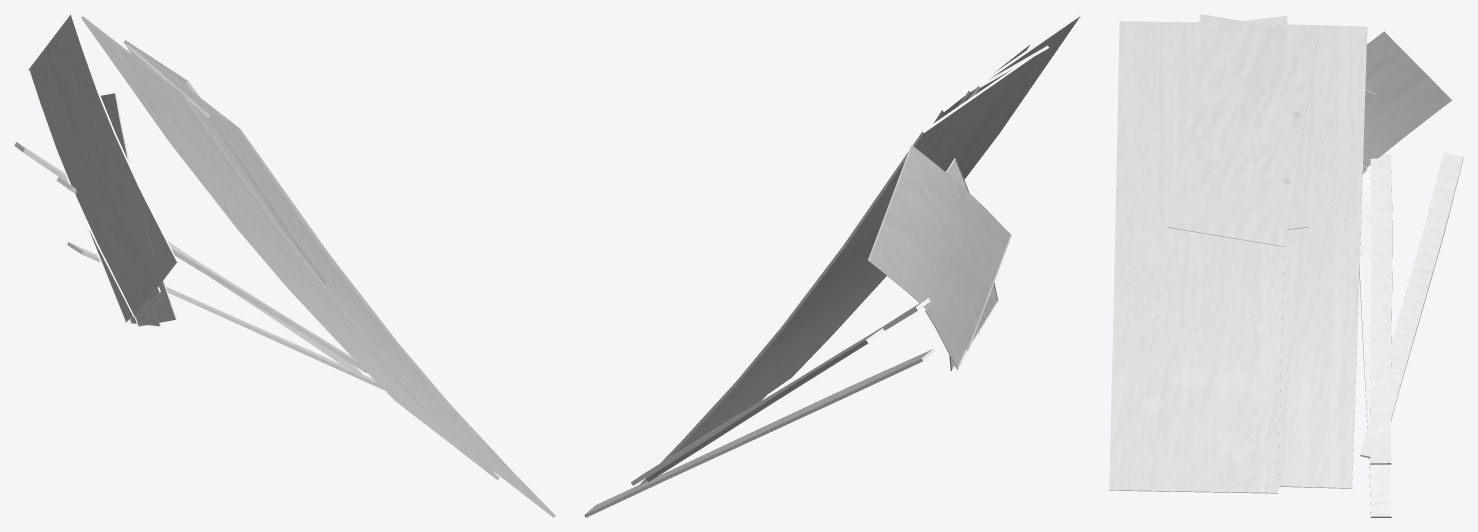
The model's file is S_PlankCluster_01.dae.
3 views of the same model, side by side, from view 1: azimuth 30°, elevation 25°; view 2: azimuth 150°, elevation 25°; view 3: azimuth 270°, elevation 25° (orthographic). The views are drawn at different scales.
Parts seen in each view (by area): view 1: S_PlankCluster_01.001; view 2: S_PlankCluster_01.001; view 3: S_PlankCluster_01.001.
Boxes of the visible parts, x1,y1,x2,y2 form: S_PlankCluster_01.001: [14, 14, 555, 517]; S_PlankCluster_01.001: [584, 14, 1080, 517]; S_PlankCluster_01.001: [1109, 14, 1463, 517].
Bounding box in the file's own units: 7.65 × 8.72 × 10.23.
